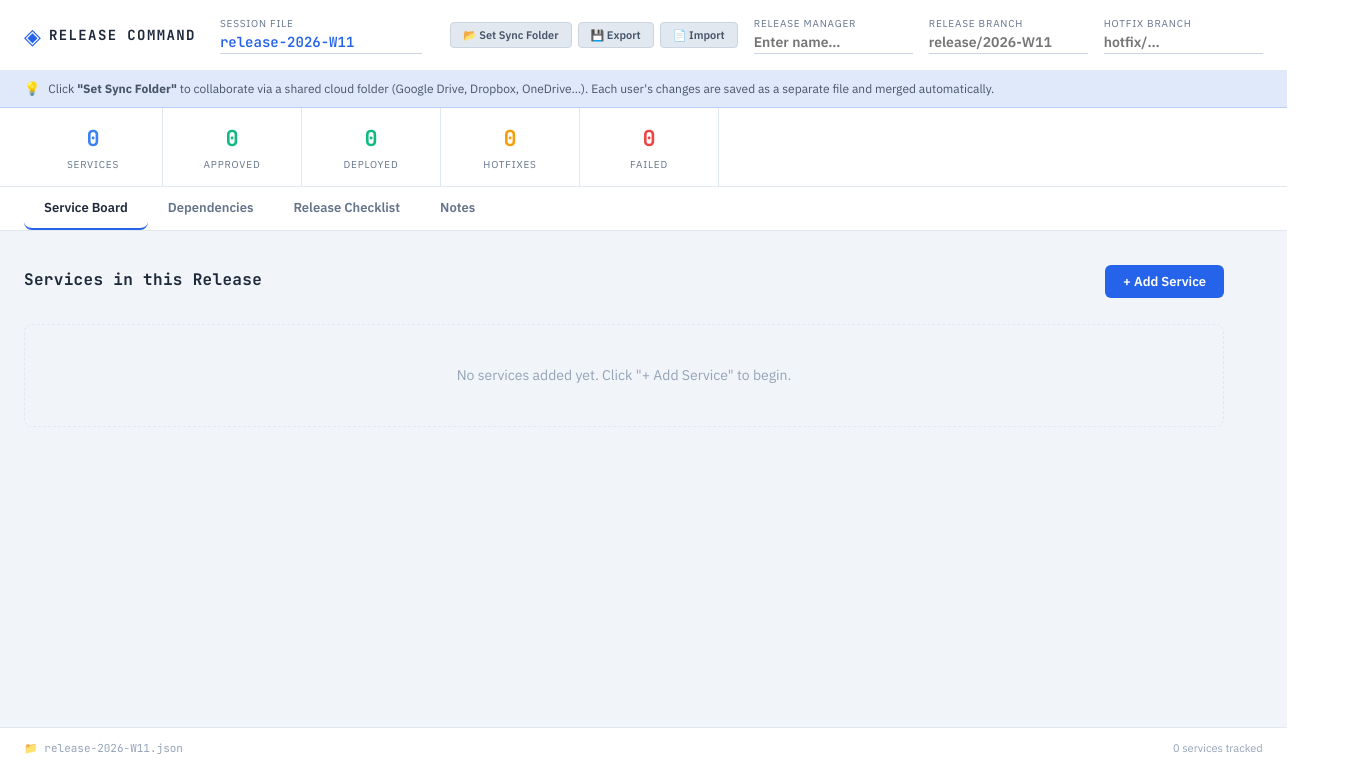
Test case: Notes tab › shows an Add note button when Notes tab is active
The image size is (1366, 768).
Click the button "Notes" at (458, 208), box [420,186,495,230]
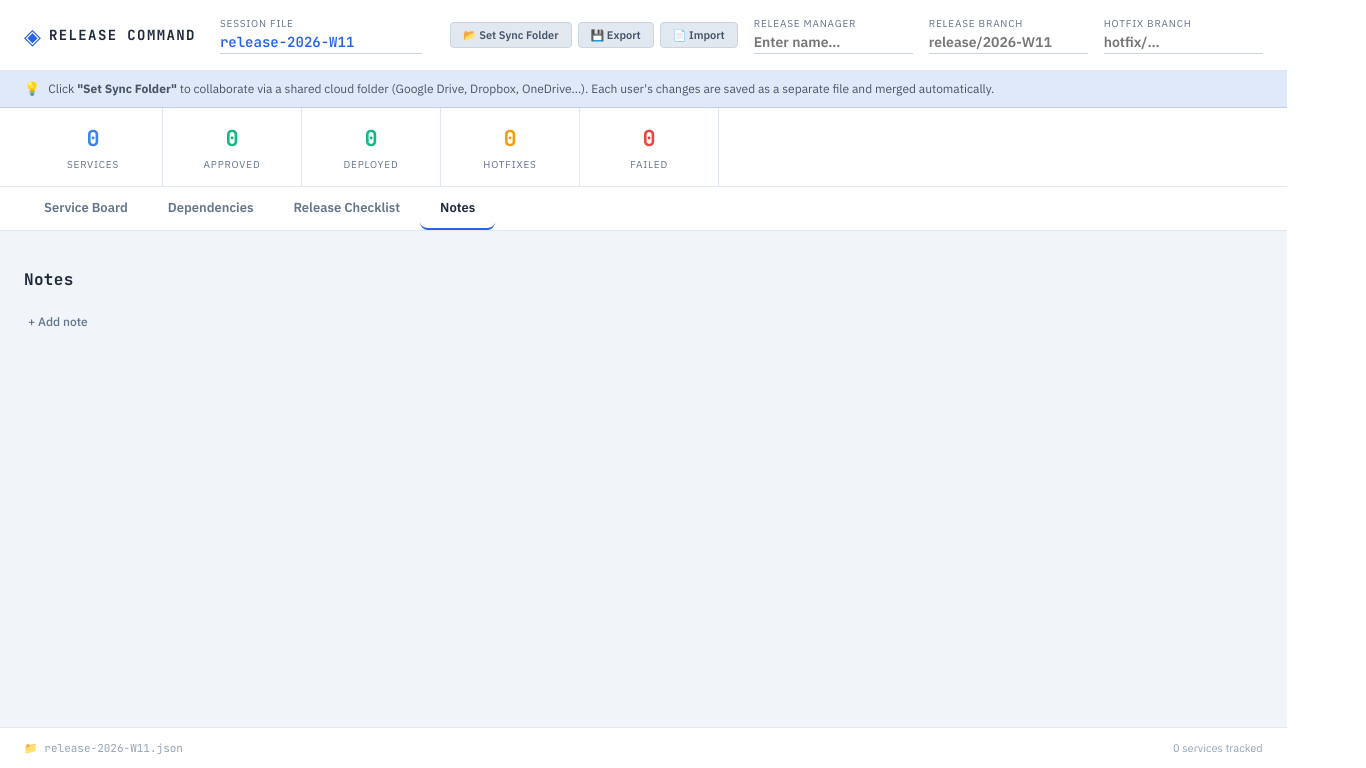
Now the button "+ Add note" is shown, box [24,308,92,335]
